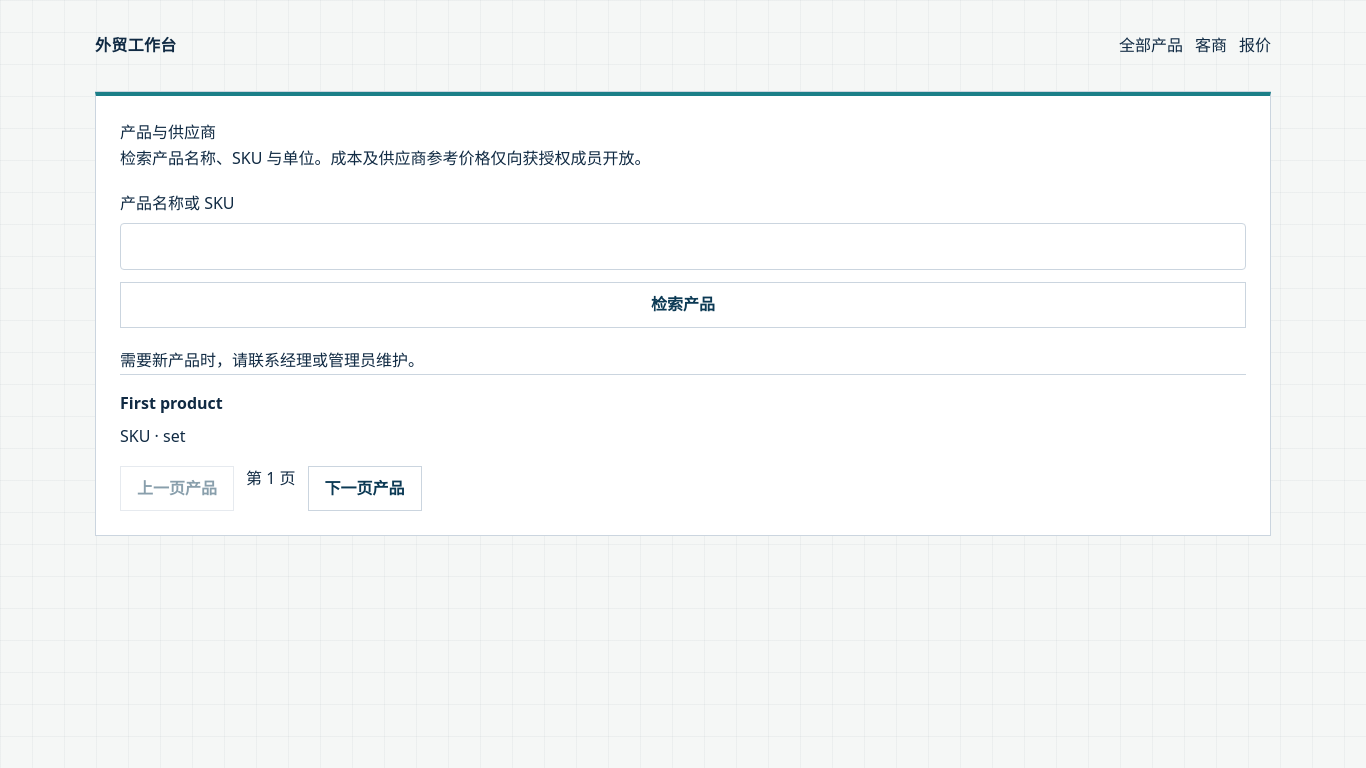
Test: navigates product cursors and restarts at page one after a submitted search
Expected: the button "上一页产品" is disabled, [120, 466, 234, 511]
Click the button "下一页产品".
click(364, 489)  # box [308, 466, 422, 511]
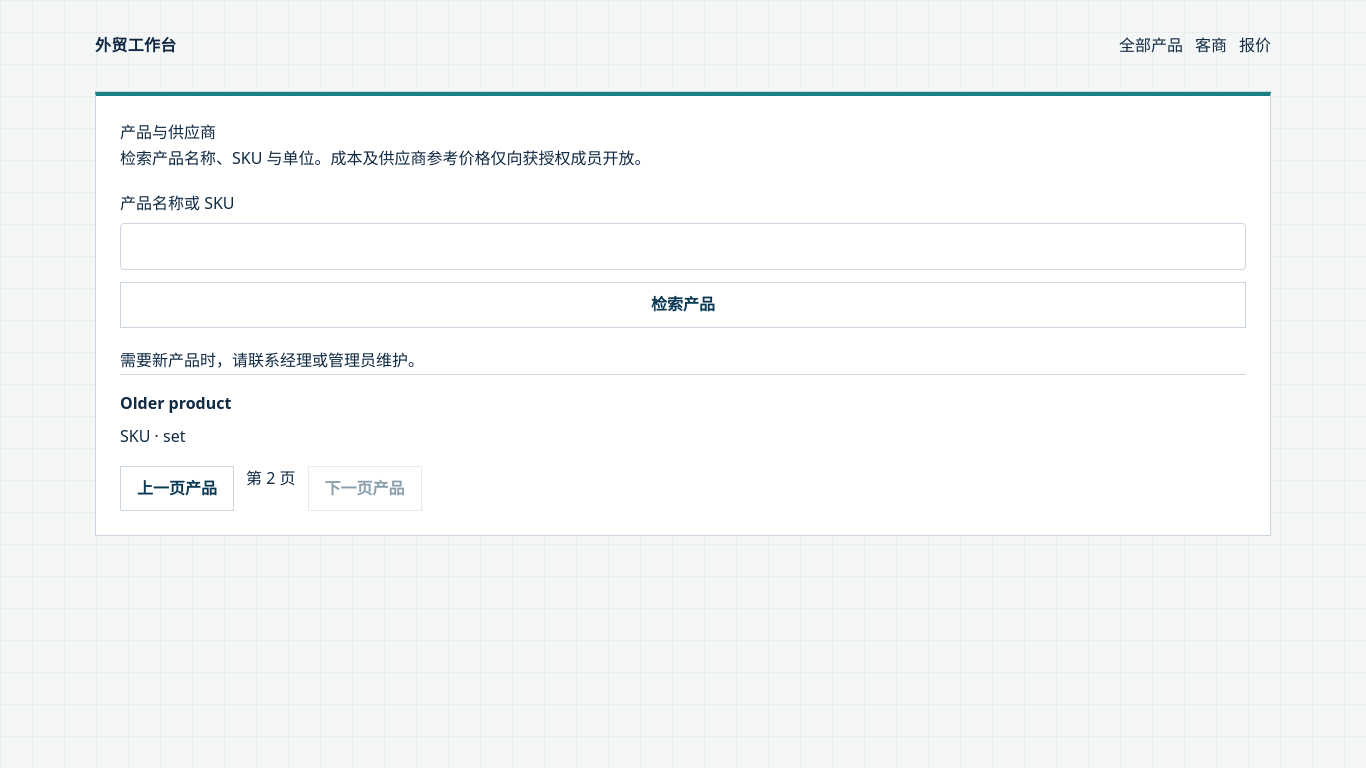
Result: the text "第 2 页" is shown at [246, 467, 296, 489]
Result: the link "Older product SKU · set" is shown at [120, 392, 231, 447]
Result: the button "下一页产品" is disabled at [308, 466, 422, 511]
Click the button "上一页产品".
click(177, 489)  # box [120, 466, 234, 511]
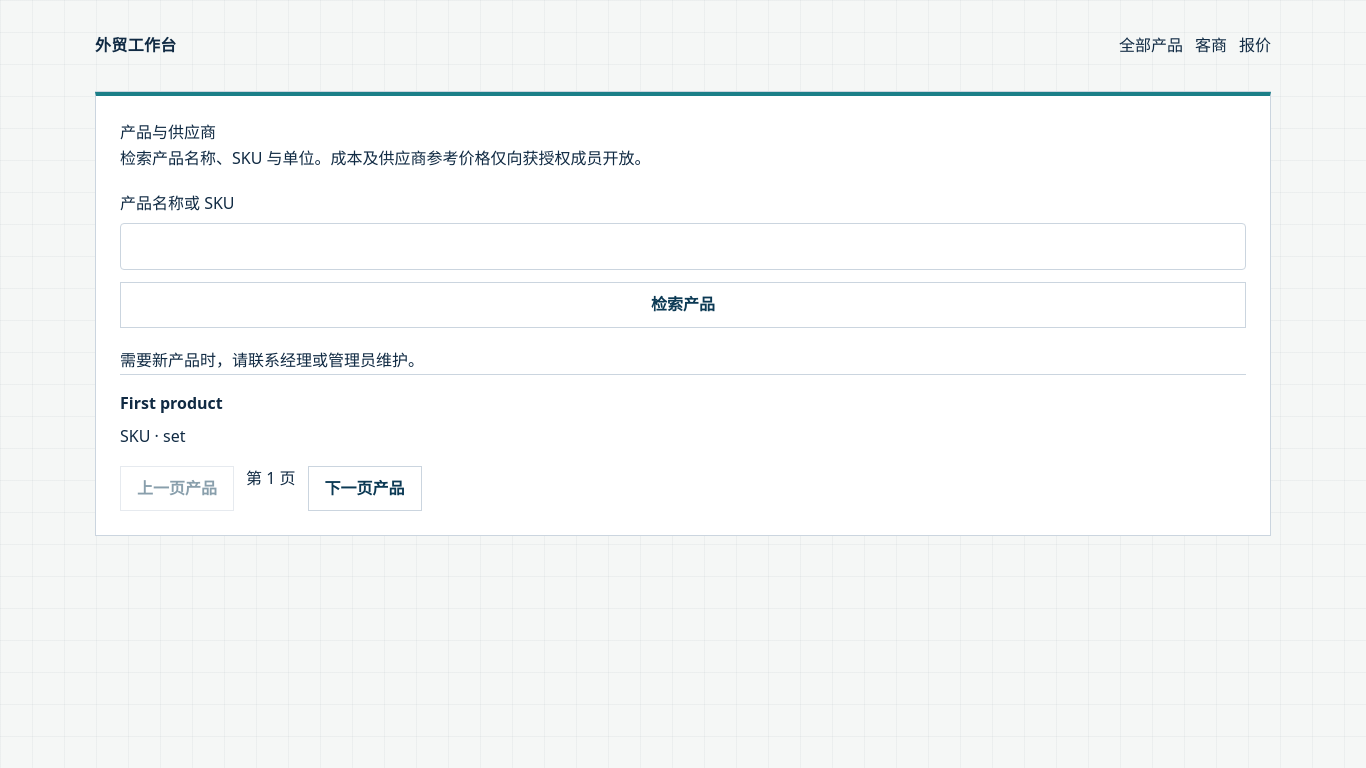
Result: the text "第 1 页" is shown at [246, 467, 296, 489]
Click the button "下一页产品".
click(364, 489)  # box [308, 466, 422, 511]
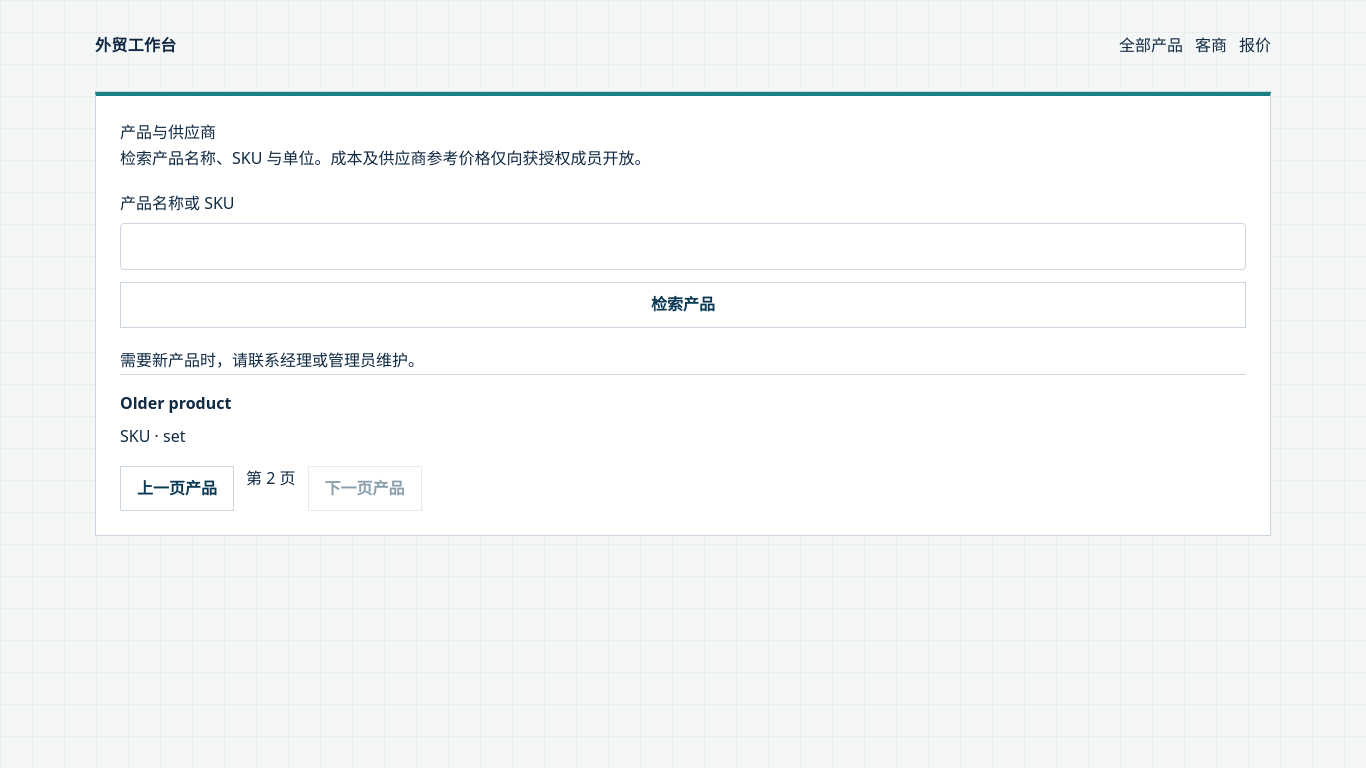
Type "pump" into the field labelled "产品名称或 SKU".
click(683, 247); type("pump")  # box [120, 223, 1246, 270]
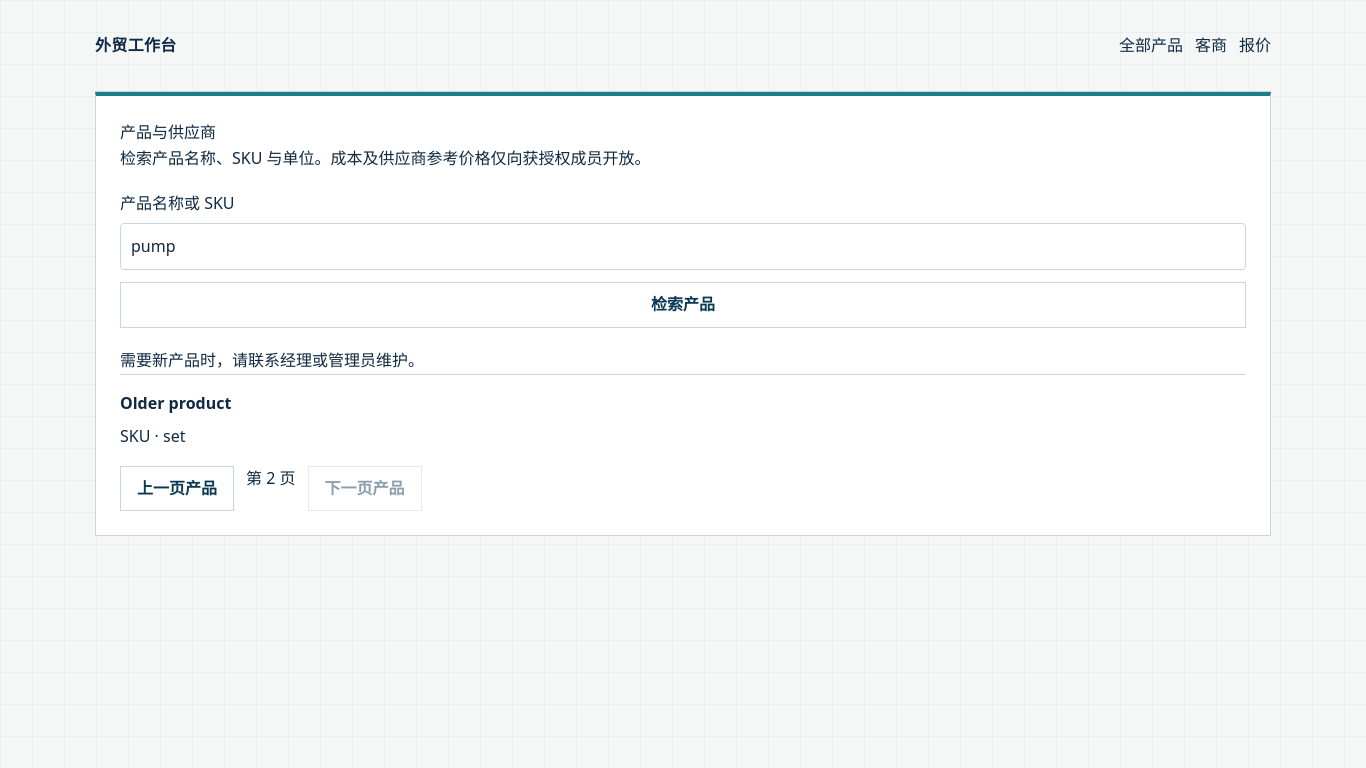
Click the button "检索产品".
click(683, 305)  # box [120, 282, 1246, 328]
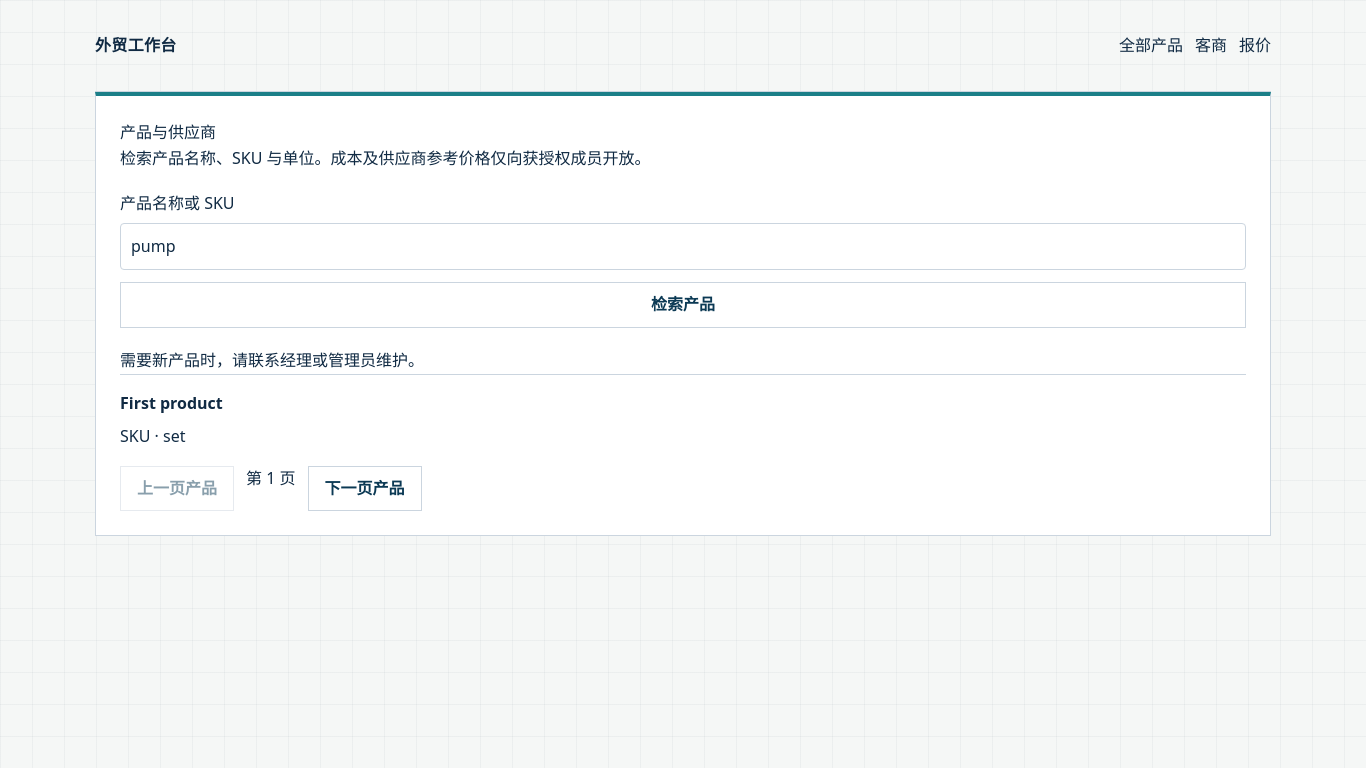
Result: the text "第 1 页" is shown at [246, 467, 296, 489]
